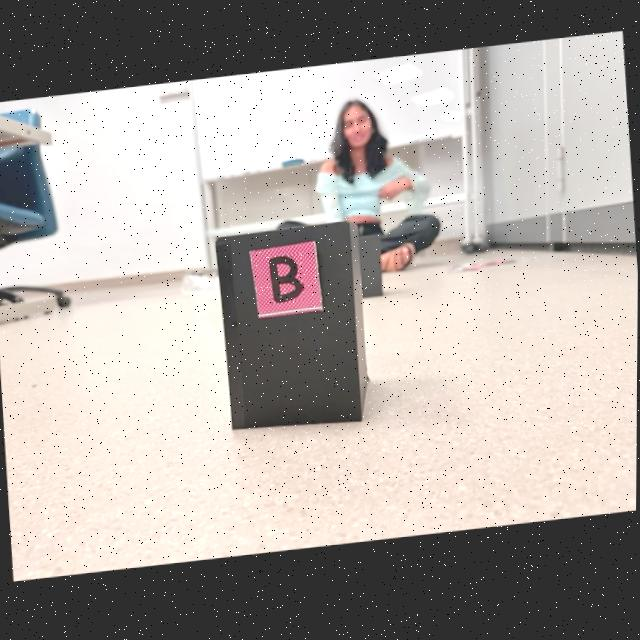B: (269, 258, 303, 305)
